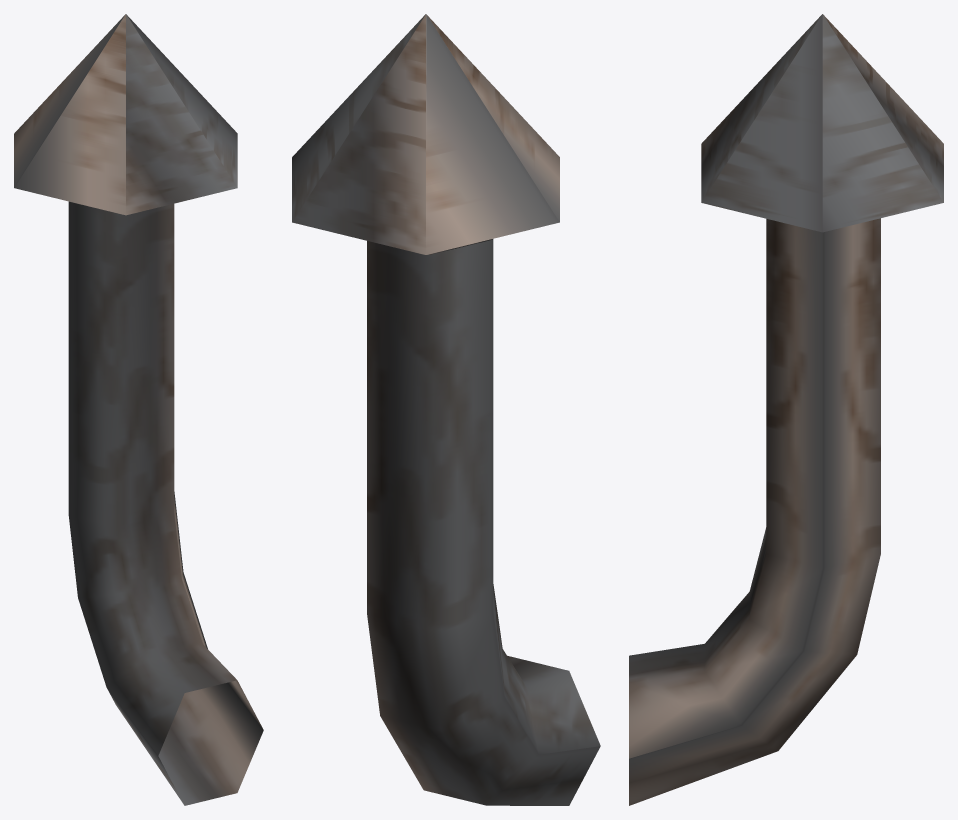
The model's file is House_Fire_01.FBX.
3 renders of one model, left to right at view 1: azimuth 30°, elevation 25°; view 2: azimuth 150°, elevation 25°; view 3: azimuth 270°, elevation 25°, orthographic. The views are drawn at different scales.
Visible parts, largest first — view 1: House_Fire_01; view 2: House_Fire_01; view 3: House_Fire_01.
Part boxes in pixels (x1=…): House_Fire_01: x1=14, y1=14, x2=263, y2=805; House_Fire_01: x1=292, y1=14, x2=600, y2=805; House_Fire_01: x1=629, y1=14, x2=943, y2=805.
Size of the model in its own units: 0.9849 by 3.03 by 1.11.
